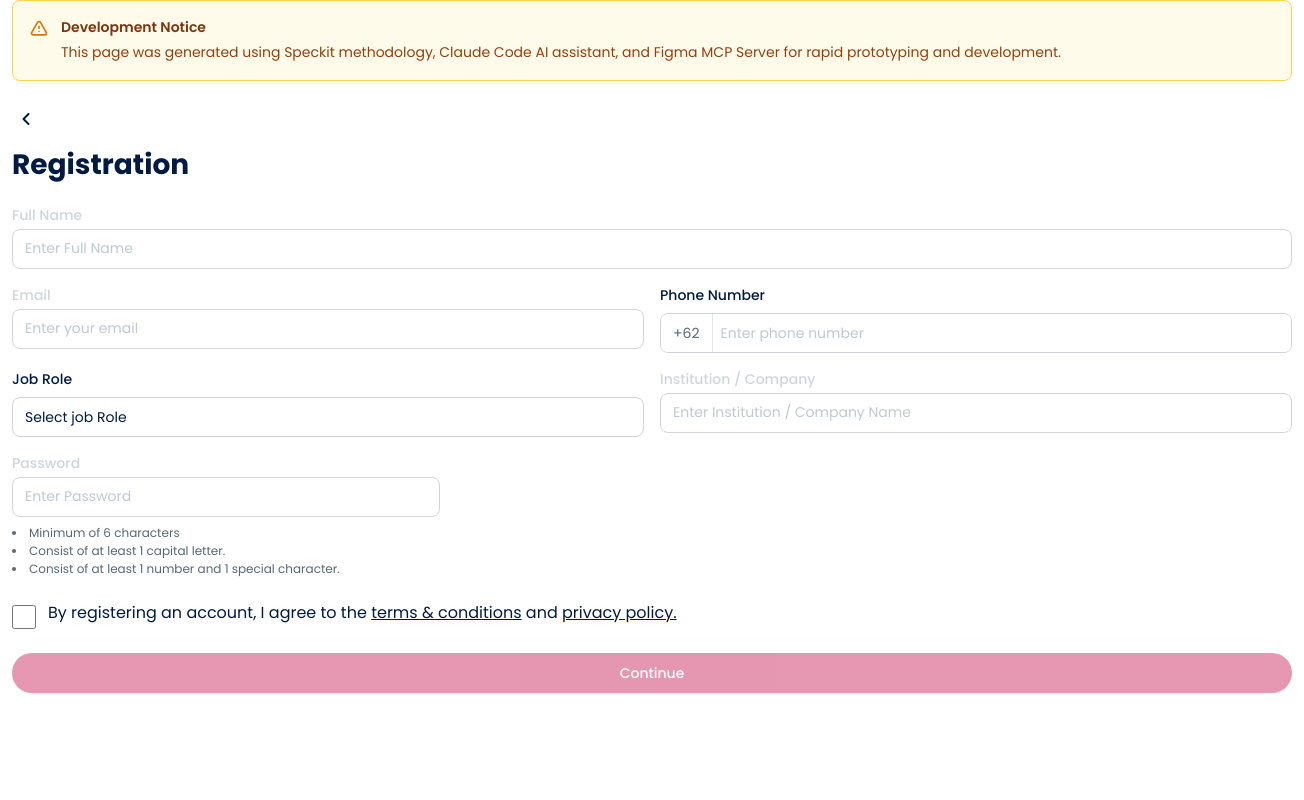
Test: RegisterForm › validates email format
The width and height of the screenshot is (1304, 800).
Type "invalid-email" into the field labelled "Email".
click(328, 329); type("invalid-email")  # box [12, 309, 644, 349]
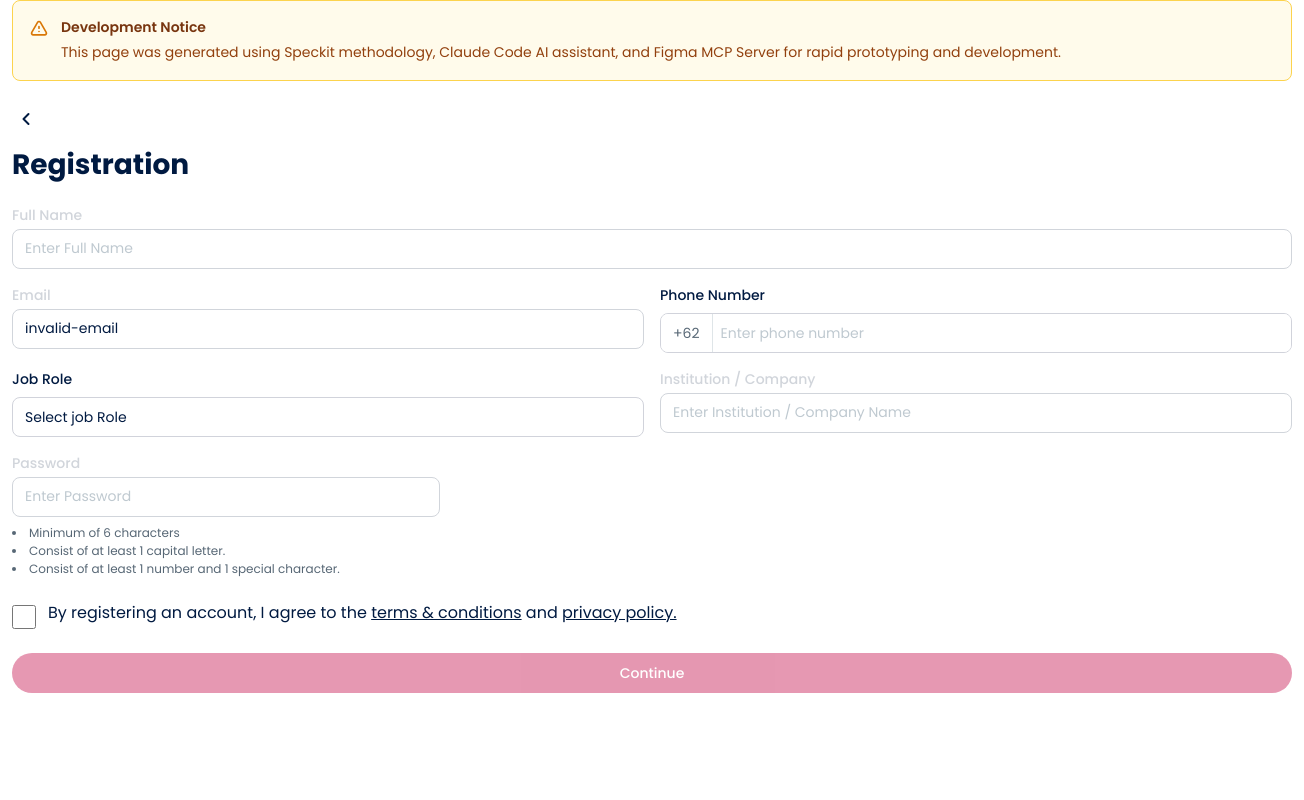
Leave the field labelled "Email", box [12, 309, 644, 349]
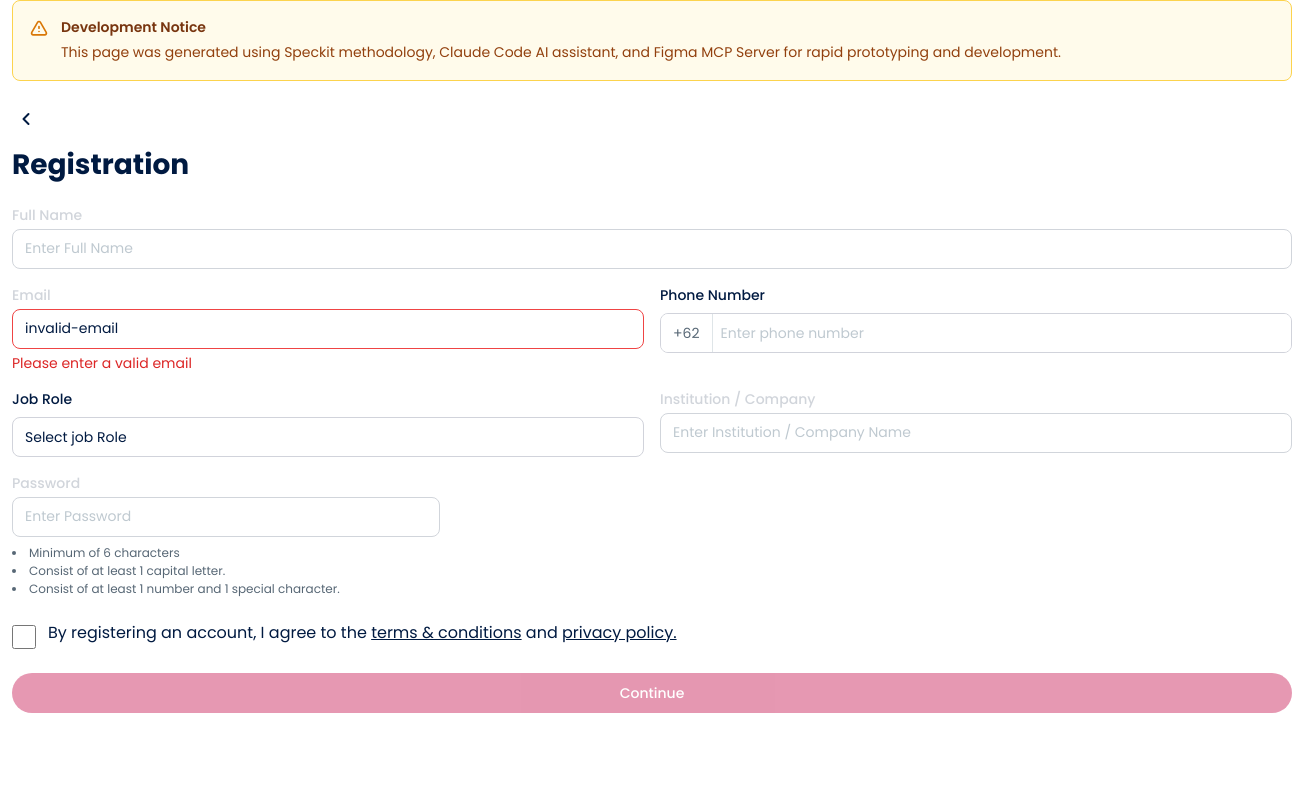
Expected: the text "Please enter a valid email" is shown, [12, 353, 192, 373]
